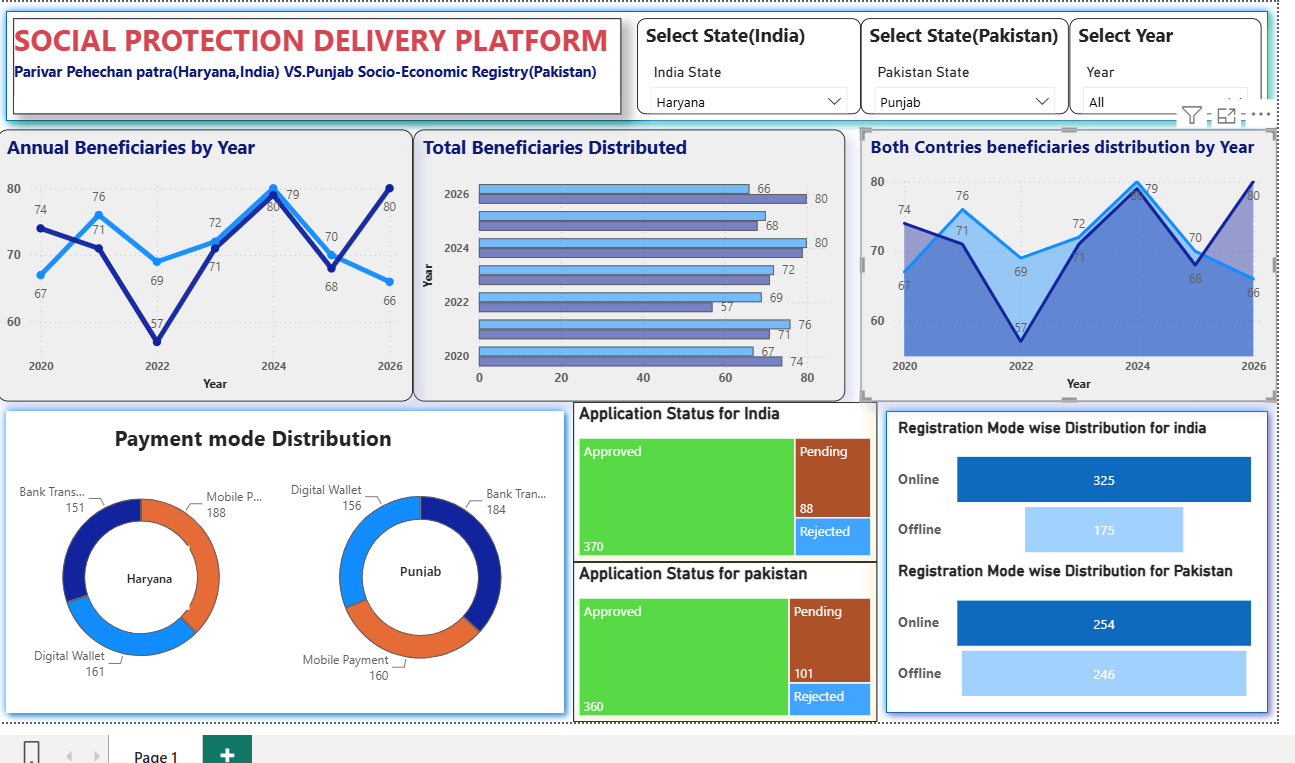

What the dashboard file says about the page in this screenshot:
{"tool":"powerbi","page":{"name":"Page 1","canvas":[1280,720],"ordinal":0},"visuals":[{"type":"shape","box":[0,0,1280,128],"z":0},{"type":"shape","title":"SOCIAL PROTECTION DELIVERY PLATFORM","box":[16,16,608,96],"z":1000},{"type":"slicer","title":"Select State(India)","fields":{"Values":["India_state_slicer.India State"]},"box":[640,16,224,96],"z":2000},{"type":"slicer","title":"Select State(Pakistan)","fields":{"Values":["Pakistan_state_slicer.Pakistan State"]},"box":[864,16,208,96],"z":3000},{"type":"slicer","title":"Select Year","fields":{"Values":["Beneficiary_Data.Year"]},"box":[1072,16,192,96],"z":4000},{"type":"clusteredBarChart","title":"Total Beneficiaries Distributed","fields":{"Category":["Beneficiary_Data.Year"],"Y":["Beneficiary_Data.India_Selected_Beneficiaries","Beneficiary_Data.Pakistan_Selected_Beneficiaries"]},"box":[416,128,432,272],"z":5000},{"type":"lineChart","title":"Annual Beneficiaries by Year","fields":{"Y":["Beneficiary_Data.India_Selected_Beneficiaries","Beneficiary_Data.Pakistan_Selected_Beneficiaries"],"Category":["Beneficiary_Data.Year"]},"box":[0,128,416,272],"z":6000},{"type":"areaChart","title":"Both Contries beneficiaries distribution by Year","fields":{"Category":["Beneficiary_Data.Year"],"Y":["Beneficiary_Data.India_Selected_Beneficiaries","Beneficiary_Data.Pakistan_Selected_Beneficiaries"]},"box":[864,128,416,272],"z":7000},{"type":"shape","title":"Payment Mode Distribution","box":[0,400,576,320],"z":8000},{"type":"donutChart","fields":{"Category":["Beneficiary_Data.Payment_Mode"],"Y":["Beneficiary_Data.India_Selected_Beneficiaries"]},"box":[16,448,256,256],"z":9000},{"type":"donutChart","fields":{"Category":["Beneficiary_Data.Payment_Mode"],"Y":["Beneficiary_Data.Pakistan_Selected_Beneficiaries"]},"box":[288,448,272,256],"z":10000},{"type":"cardVisual","fields":{"Data":["Beneficiary_Data.India Selected name"]},"box":[112,544,80,64],"z":11000},{"type":"cardVisual","fields":{"Data":["Beneficiary_Data.Pakistan Selected name"]},"box":[384,544,80,48],"z":12000},{"type":"shape","box":[576,400,304,320],"z":12001},{"type":"textbox","box":[112,416,336,48],"z":12002},{"type":"treemap","title":"Application Status for pakistan","fields":{"Group":["Beneficiary_Data.Application_Status"],"Values":["Beneficiary_Data.Pakistan_Selected_Beneficiaries"]},"box":[576,560,304,160],"z":12003},{"type":"treemap","title":"Application Status for India ","fields":{"Group":["Beneficiary_Data.Application_Status"],"Values":["Beneficiary_Data.India_Selected_Beneficiaries"]},"box":[576,400,304,160],"z":12004},{"type":"shape","box":[880,400,400,320],"z":12005},{"type":"funnel","title":"Registration Mode wise Distribution for india","fields":{"Category":["Beneficiary_Data.Registration_Mode"],"Y":["Beneficiary_Data.India_Selected_Beneficiaries"]},"box":[896,416,368,144],"z":12006},{"type":"funnel","title":"Registration Mode wise Distribution for Pakistan","fields":{"Y":["Beneficiary_Data.Pakistan_Selected_Beneficiaries"],"Category":["Beneficiary_Data.Registration_Mode"]},"box":[896,560,368,144],"z":12007}]}

Visuals, with their boxes in screenshot pixels (x1, y1, x2, y2):
shape: (0, 10, 1270, 138)
"SOCIAL PROTECTION DELIVERY PLATFORM" shape: (9, 26, 616, 122)
"Select State(India)" slicer: (632, 26, 855, 122)
"Select State(Pakistan)" slicer: (855, 26, 1063, 122)
"Select Year" slicer: (1063, 26, 1254, 122)
"Total Beneficiaries Distributed" clusteredBarChart: (408, 138, 839, 409)
"Annual Beneficiaries by Year" lineChart: (0, 138, 408, 409)
"Both Contries beneficiaries distribution by Year" areaChart: (855, 138, 1270, 409)
"Payment Mode Distribution" shape: (0, 409, 568, 728)
donutChart - Beneficiary_Data.Payment_Mode x Beneficiary_Data.India_Selected_Beneficiaries: (9, 457, 265, 713)
donutChart - Beneficiary_Data.Payment_Mode x Beneficiary_Data.Pakistan_Selected_Beneficiaries: (281, 457, 552, 713)
cardVisual - Beneficiary_Data.India Selected name: (105, 553, 185, 617)
cardVisual - Beneficiary_Data.Pakistan Selected name: (376, 553, 456, 601)
shape: (568, 409, 871, 728)
textbox: (105, 425, 440, 473)
"Application Status for pakistan" treemap: (568, 569, 871, 728)
"Application Status for India " treemap: (568, 409, 871, 569)
shape: (871, 409, 1270, 728)
"Registration Mode wise Distribution for india" funnel: (887, 425, 1254, 569)
"Registration Mode wise Distribution for Pakistan" funnel: (887, 569, 1254, 713)
